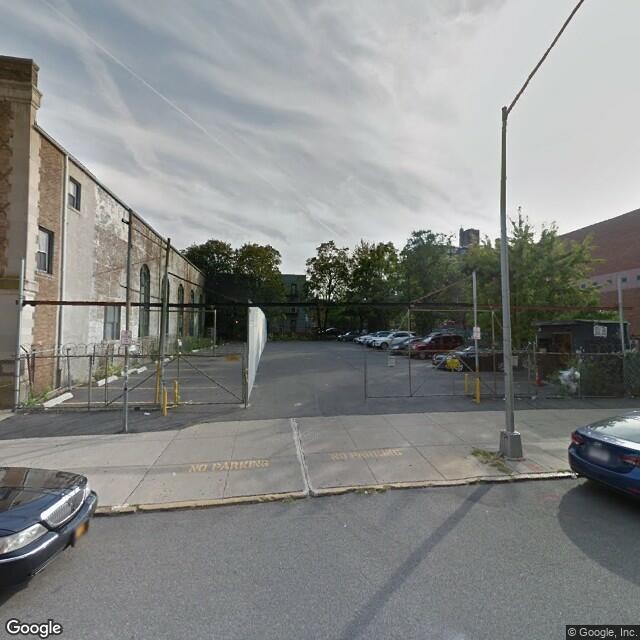litter: (143, 411, 150, 415), (172, 471, 178, 475), (364, 490, 370, 493)
